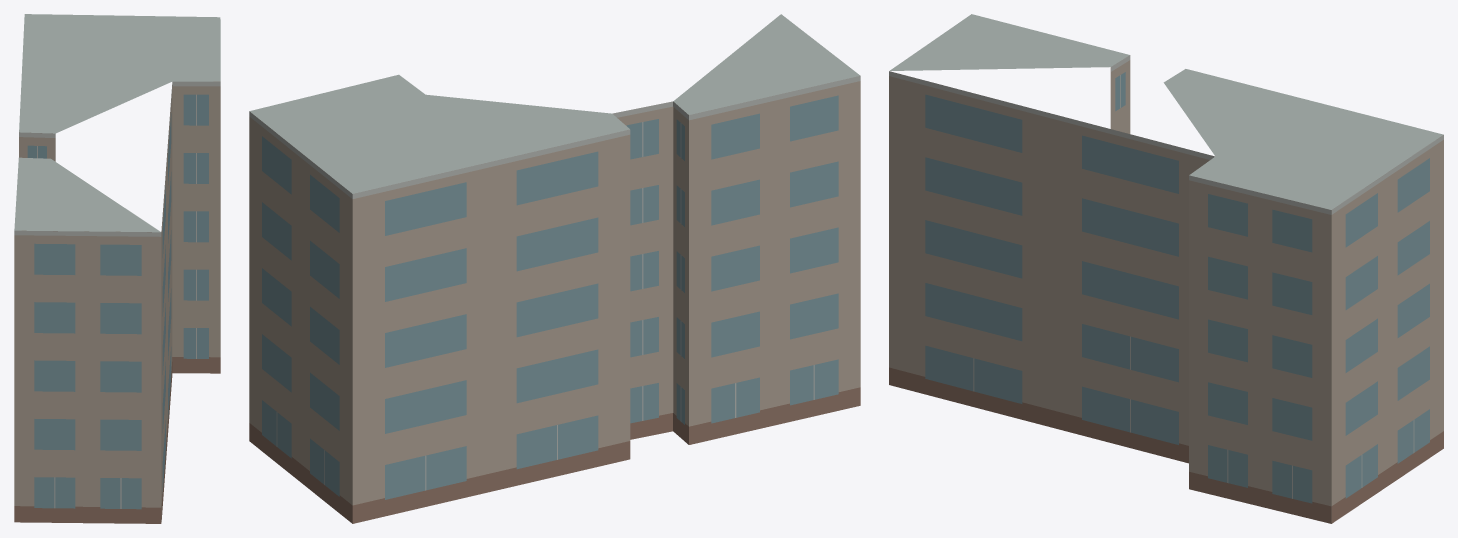
File: survey-upis-32683826.glb
3 renders of one model, left to right at view 1: azimuth 30°, elevation 25°; view 2: azimuth 150°, elevation 25°; view 3: azimuth 270°, elevation 25°, orthographic. The views are drawn at different scales.
Visible parts, largest first — view 1: survey-upis-32683826.tmp; view 2: survey-upis-32683826.tmp; view 3: survey-upis-32683826.tmp.
Boxes of the visible parts, bbox=[...] form: survey-upis-32683826.tmp: bbox=[14, 14, 220, 523]; survey-upis-32683826.tmp: bbox=[249, 14, 860, 523]; survey-upis-32683826.tmp: bbox=[889, 14, 1443, 523].
Size of the model in its own units: 20.7 by 15.45 by 24.76.
